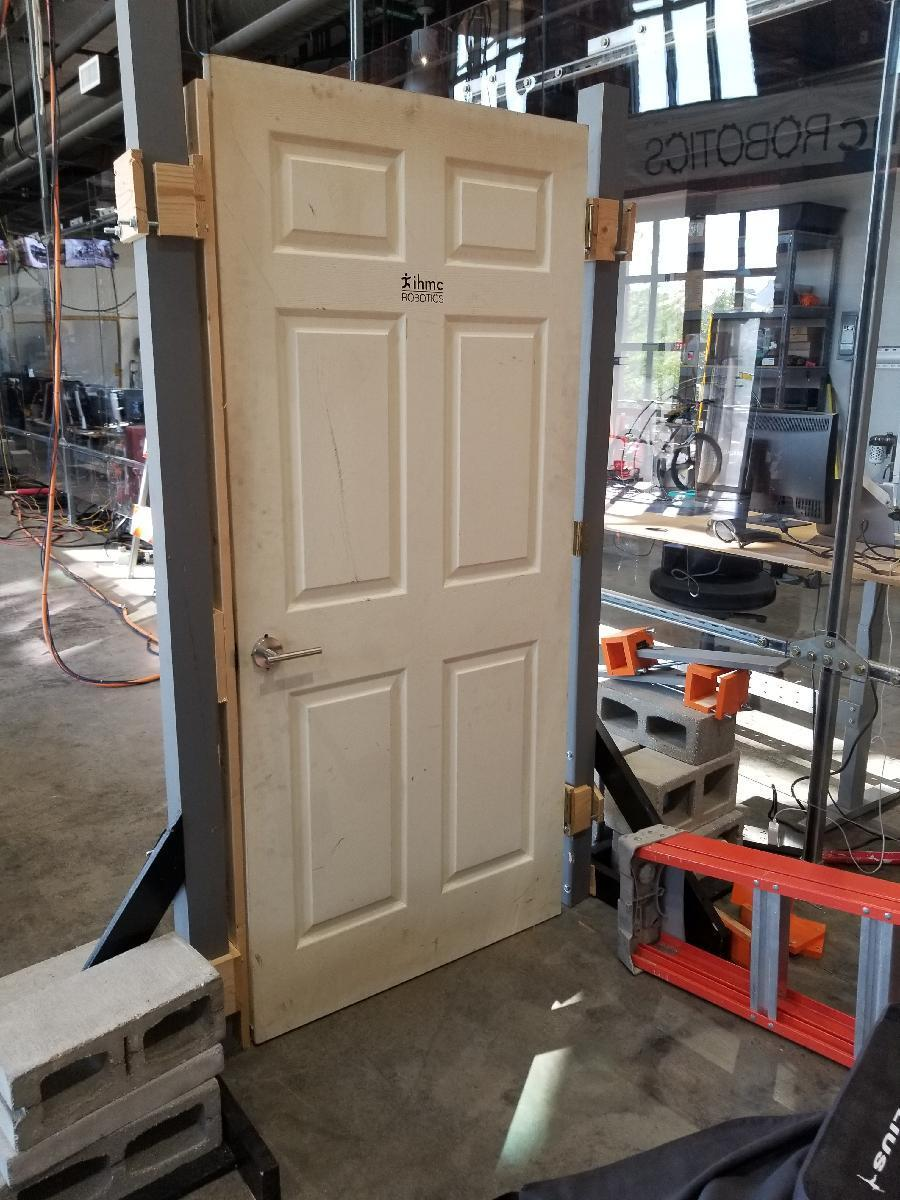door: (206, 56, 578, 988)
handle: (246, 628, 328, 681)
